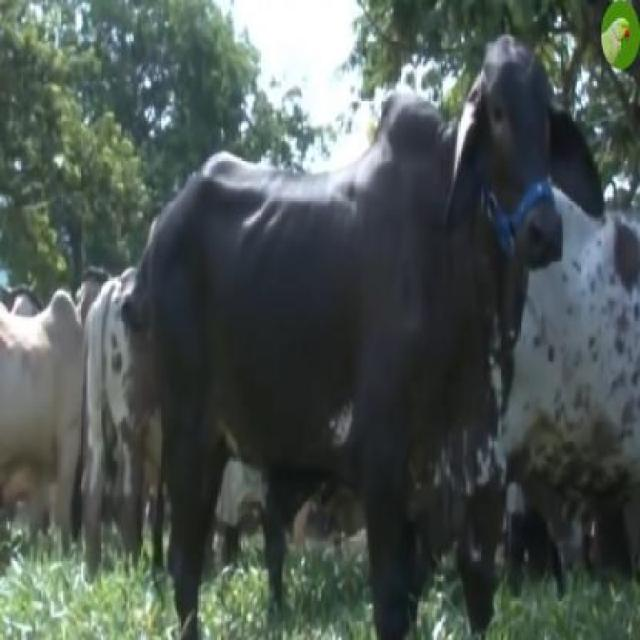Cow: (149, 36, 602, 638)
